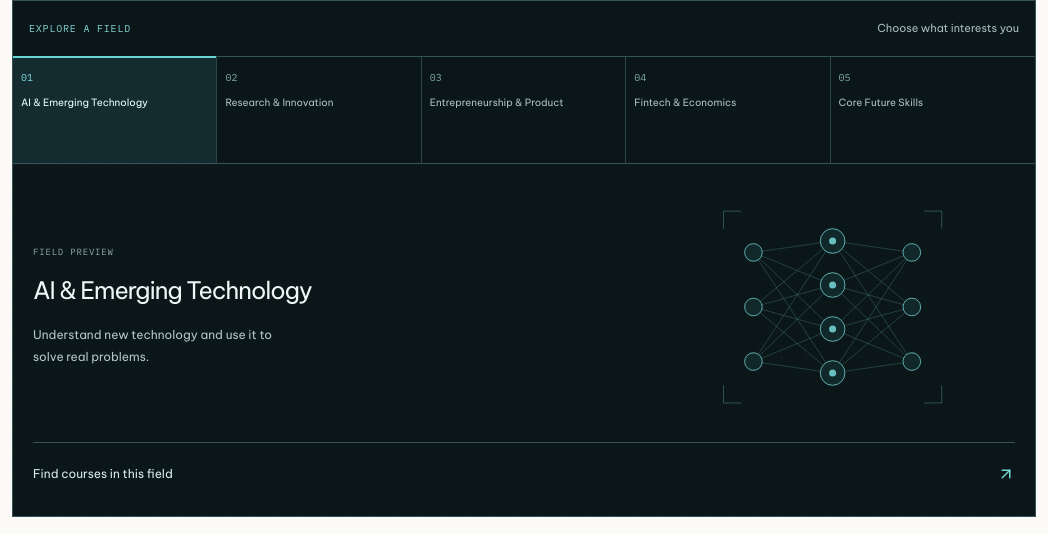
Test: Academy field explorer › selects all five canonical fields without navigating in en
Click the button "01 AI & Emerging Technology": point(115, 110) [13, 57, 217, 164]
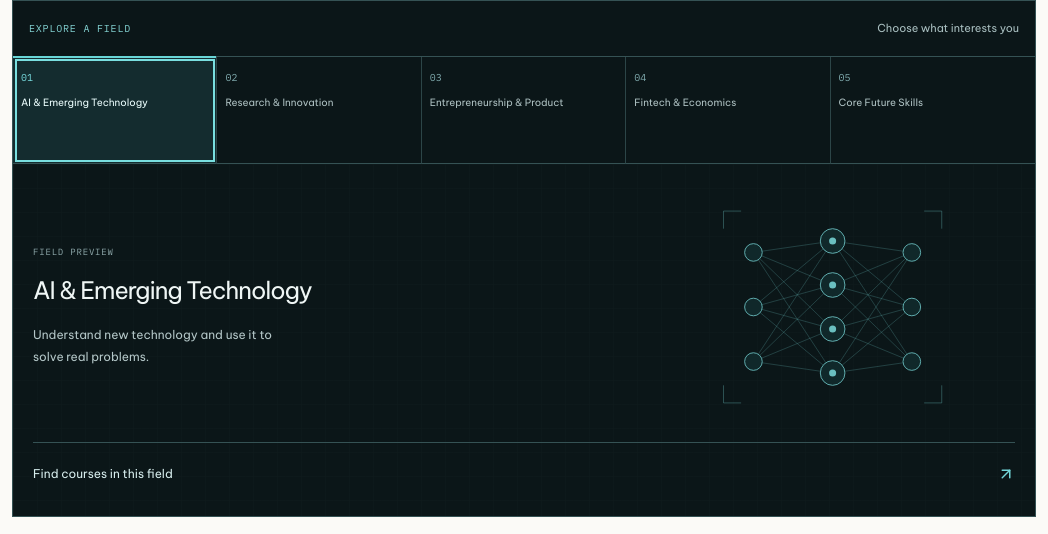
Expected: the heading "AI & Emerging Technology" is shown, [33, 275, 312, 305]
Expected: the text "Understand new technology and use it to solve real problems." is shown, [33, 324, 284, 368]
Click the button "02 Research & Innovation": point(320, 110) [217, 57, 422, 164]
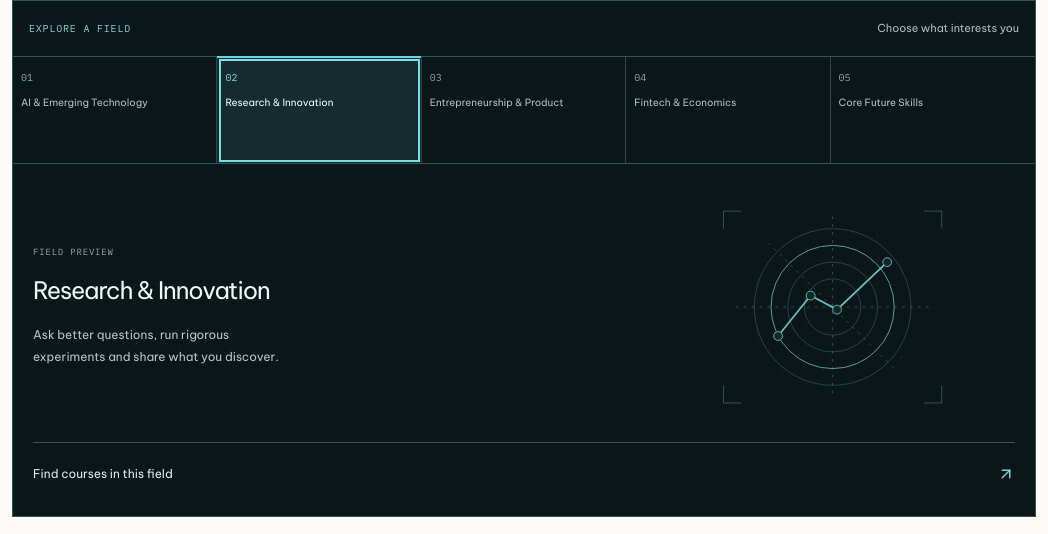
Expected: the heading "Research & Innovation" is shown, [33, 275, 270, 305]
Expected: the text "Ask better questions, run rigorous experiments and share what you discover." is shown, [33, 324, 284, 368]
Click the button "03 Entrepreneurship & Product": point(524, 110) [422, 57, 626, 164]
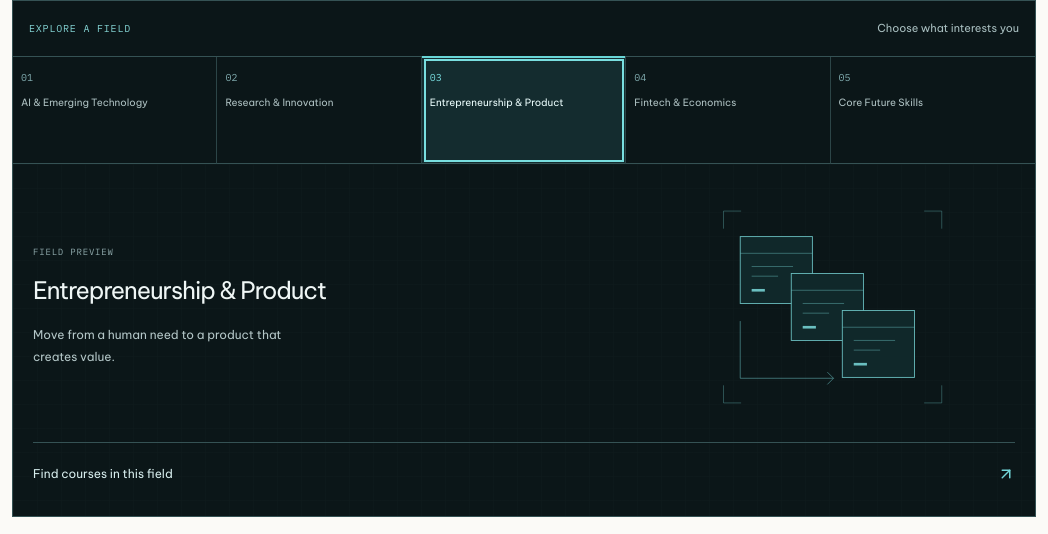
Expected: the heading "Entrepreneurship & Product" is shown, [33, 275, 326, 305]
Expected: the text "Move from a human need to a product that creates value." is shown, [33, 324, 284, 368]
Click the button "04 Fintech & Economics": point(728, 110) [626, 57, 831, 164]
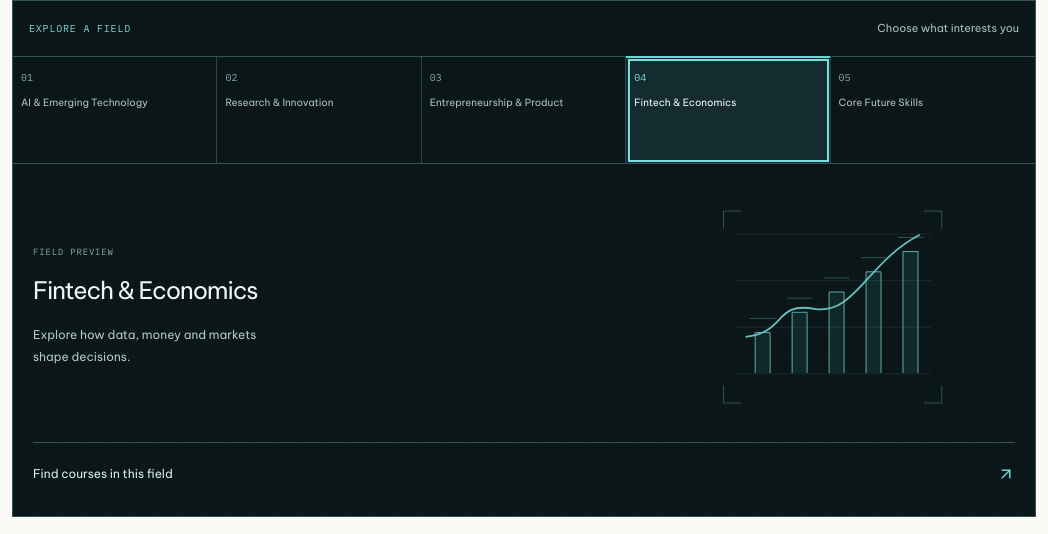
Expected: the heading "Fintech & Economics" is shown, [33, 275, 257, 305]
Expected: the text "Explore how data, money and markets shape decisions." is shown, [33, 324, 284, 368]
Click the button "05 Core Future Skills": point(933, 110) [831, 57, 1035, 164]
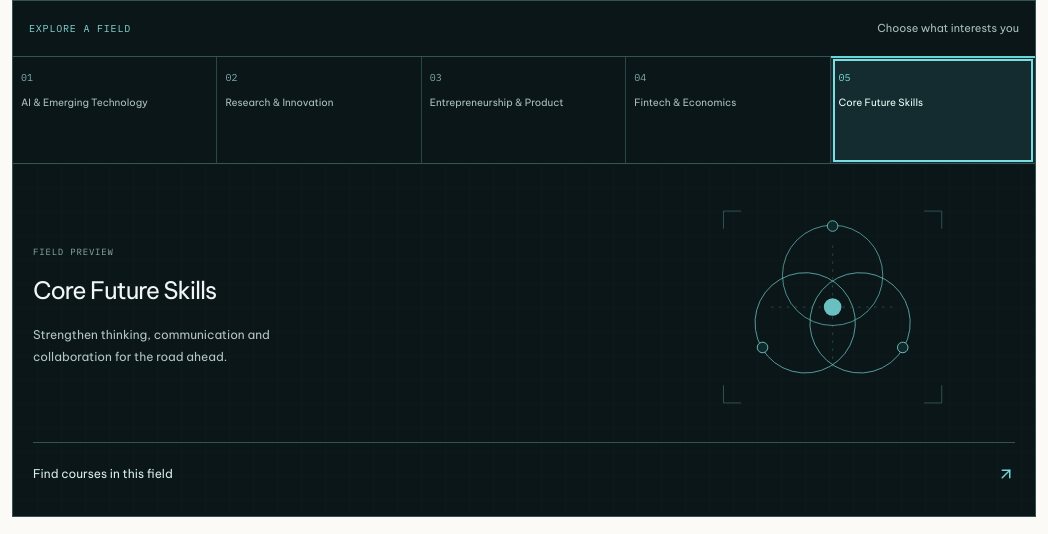
Expected: the heading "Core Future Skills" is shown, [33, 275, 216, 305]
Expected: the text "Strengthen thinking, communication and collaboration for the road ahead." is shown, [33, 324, 284, 368]
